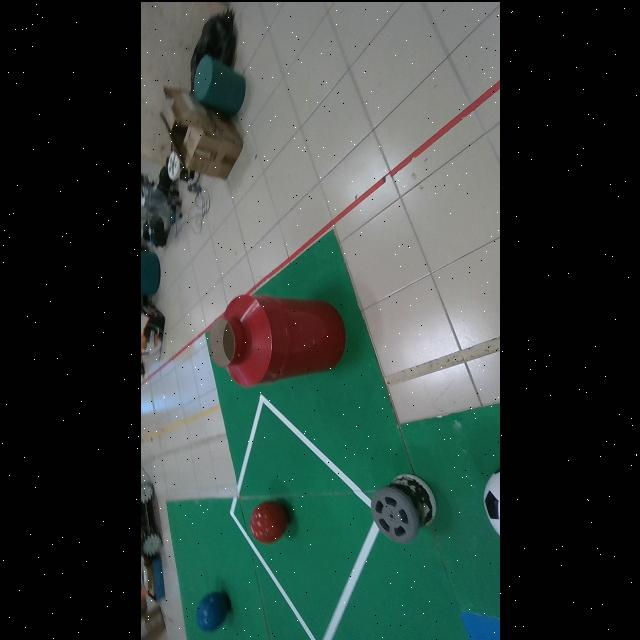B: (195, 591, 229, 631)
R: (248, 500, 287, 543)
